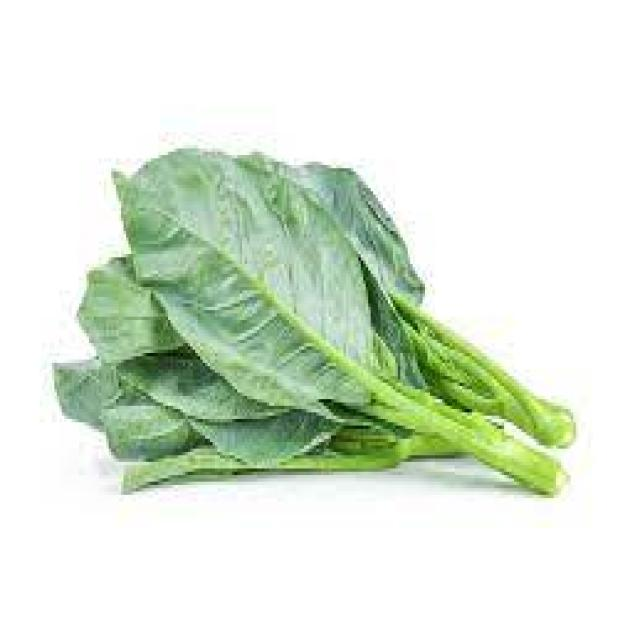collard: (53, 145, 570, 498)
